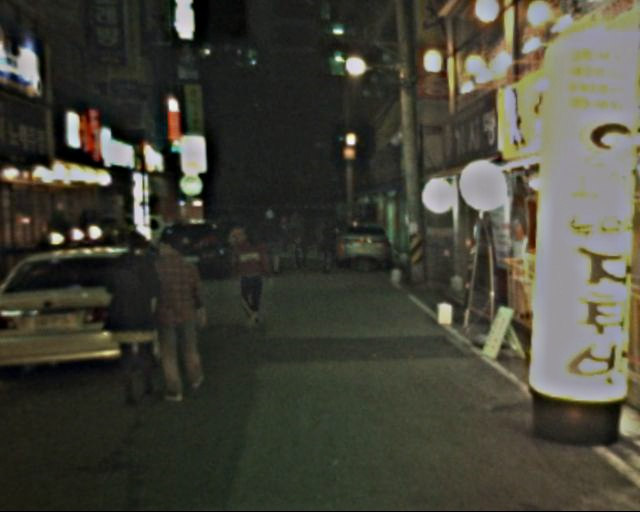person: (102, 229, 167, 413), (148, 227, 213, 410), (229, 223, 271, 329), (258, 199, 288, 279), (230, 216, 262, 287), (283, 212, 306, 278), (314, 215, 337, 276)
